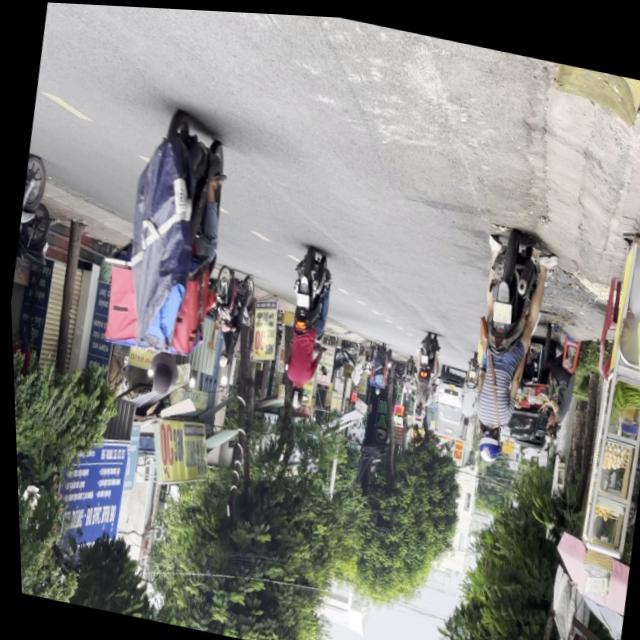helmet: (471, 418, 499, 458), (283, 379, 302, 407)
licenseplate: (94, 97, 243, 411), (447, 216, 557, 468), (267, 239, 338, 412)
motorcyclist: (141, 347, 177, 400)
nohelmet: (488, 295, 509, 319)
